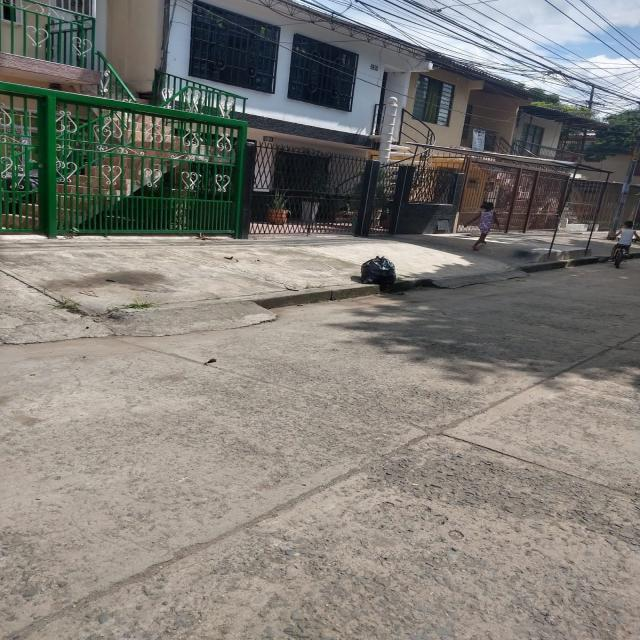Trashbag: (360, 253, 398, 286)
